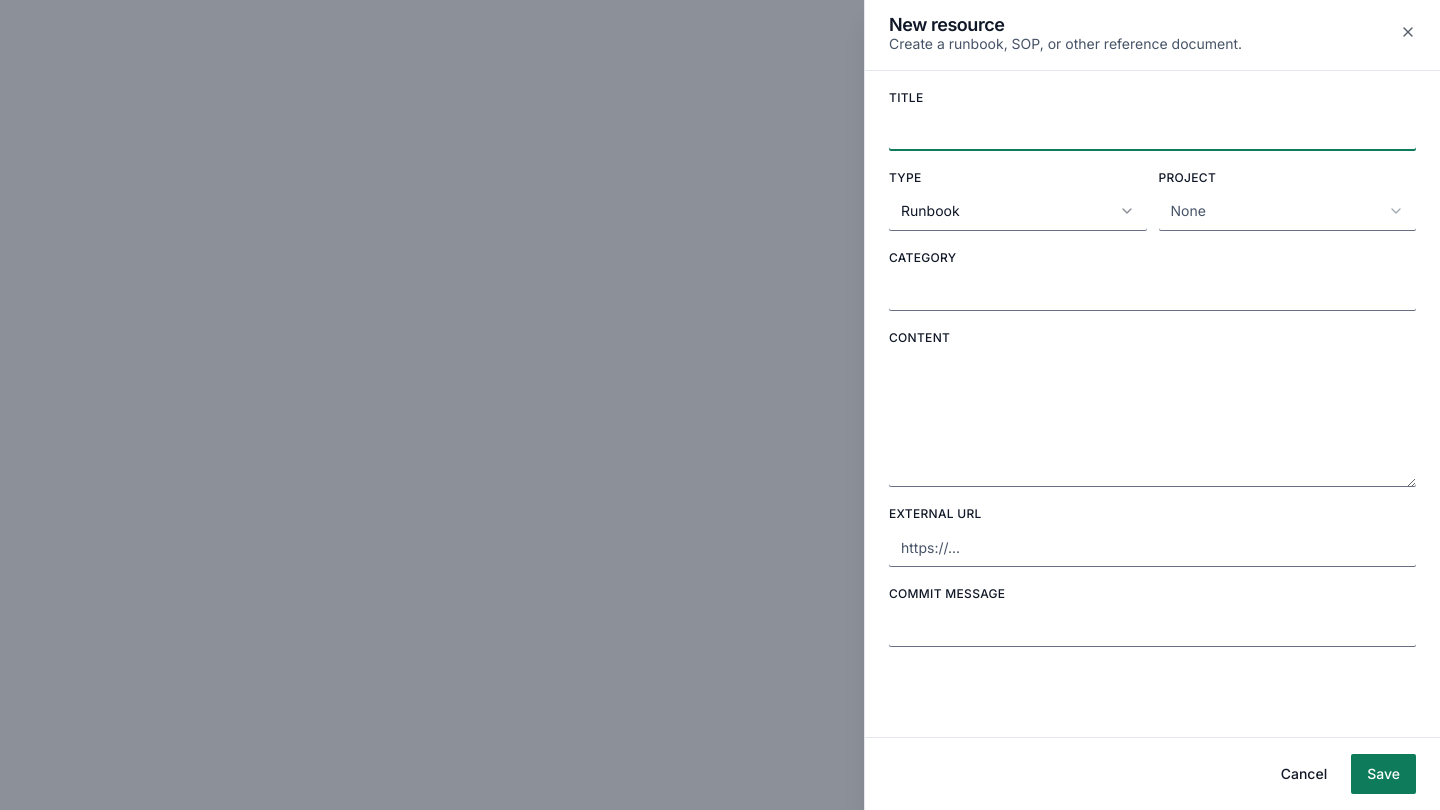
Test: ResourceEditorSheet — create mode › blocks submit and shows a field error when content is empty for a content-required type (runbook)
Type "Deploy guide" into the field labelled "Title" at [1152, 131], box [889,111,1416,151]
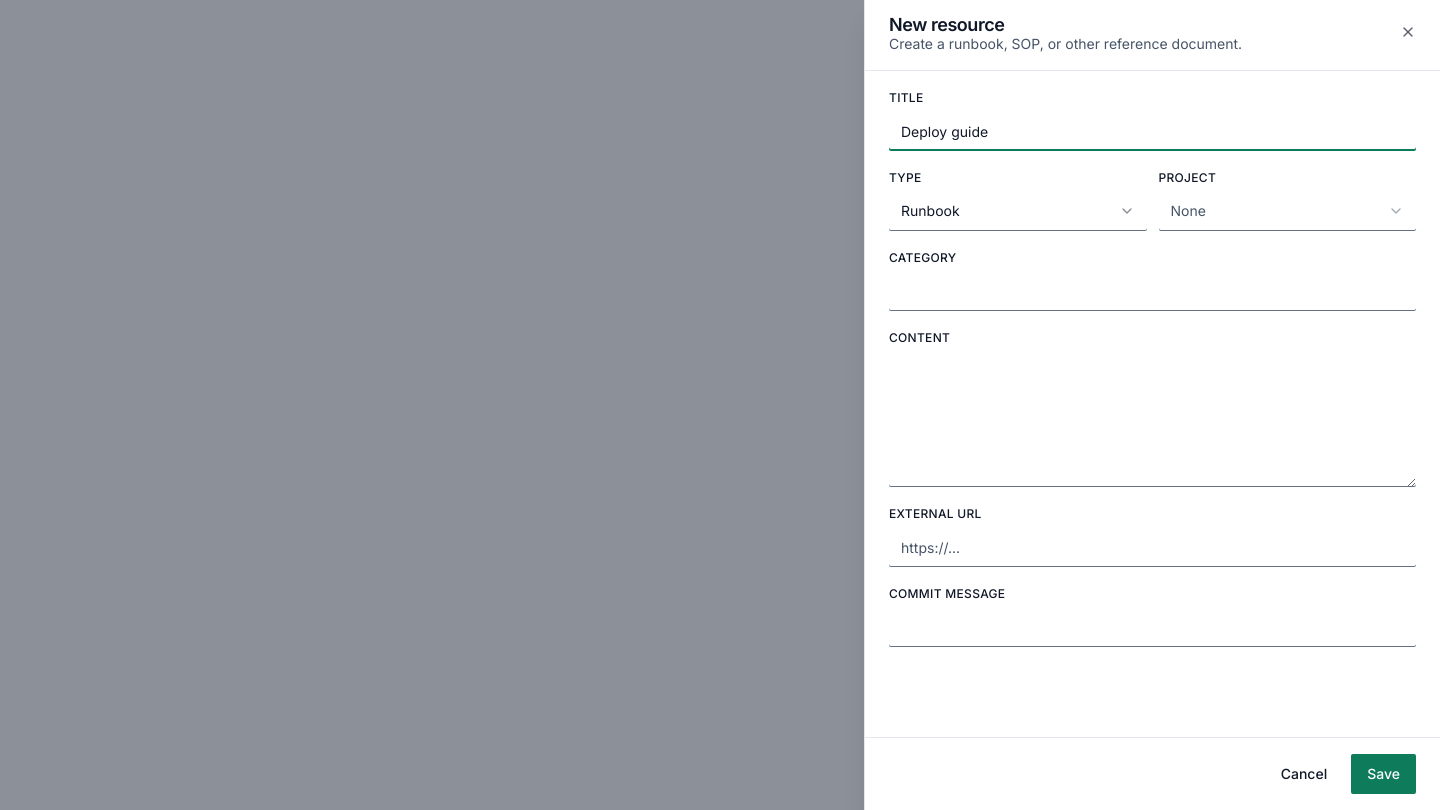
Click the button "Save" at [1384, 774], box [1351,754,1416,794]
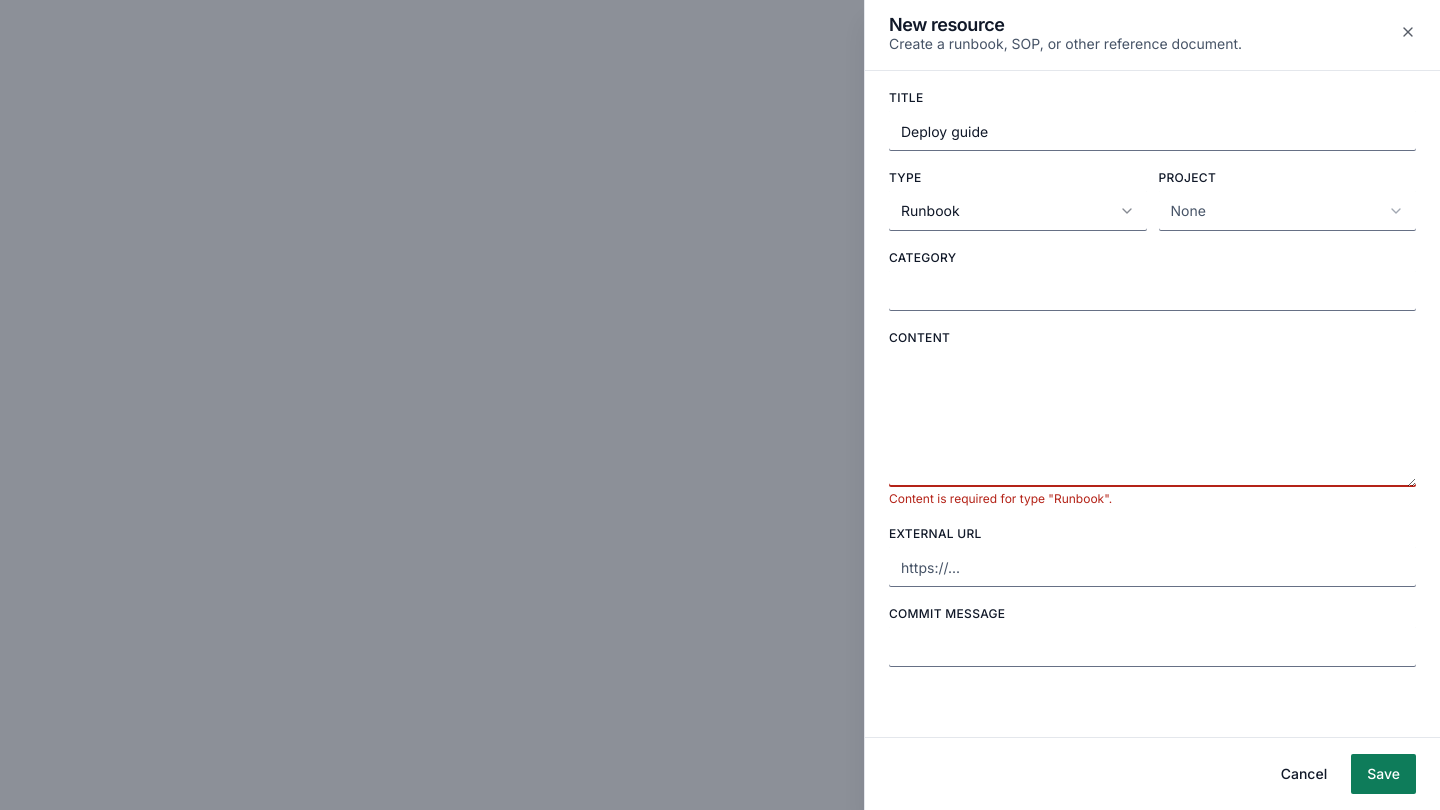
Result: the text "Content is required for type \"Runbook\"." is shown at [889,491,1112,506]
